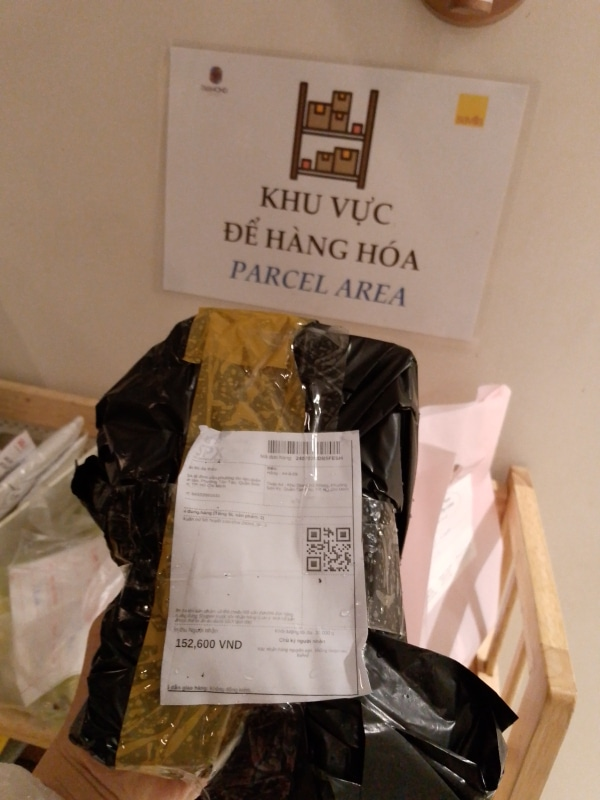pod: (171, 401, 385, 745)
